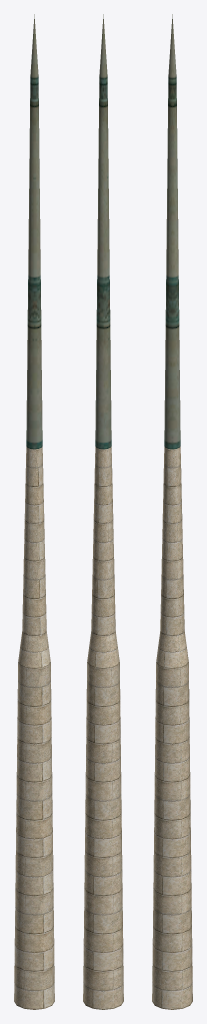
File: thm_nboo_thed_imprv_obelisk_s03_l0.fbx
3 renders of one model, left to right at view 1: azimuth 90°, elevation 25°; view 2: azimuth 150°, elevation 25°; view 3: azimuth 270°, elevation 25°, orthographic.
Parts seen in each view (by area): view 1: mesh_node; view 2: mesh_node; view 3: mesh_node.
Part boxes in pixels (bbox=[...]): mesh_node: bbox=[14, 14, 54, 1009]; mesh_node: bbox=[83, 14, 123, 1009]; mesh_node: bbox=[152, 14, 192, 1009].
Size of the model in its own units: 1.12 by 30 by 1.12.
